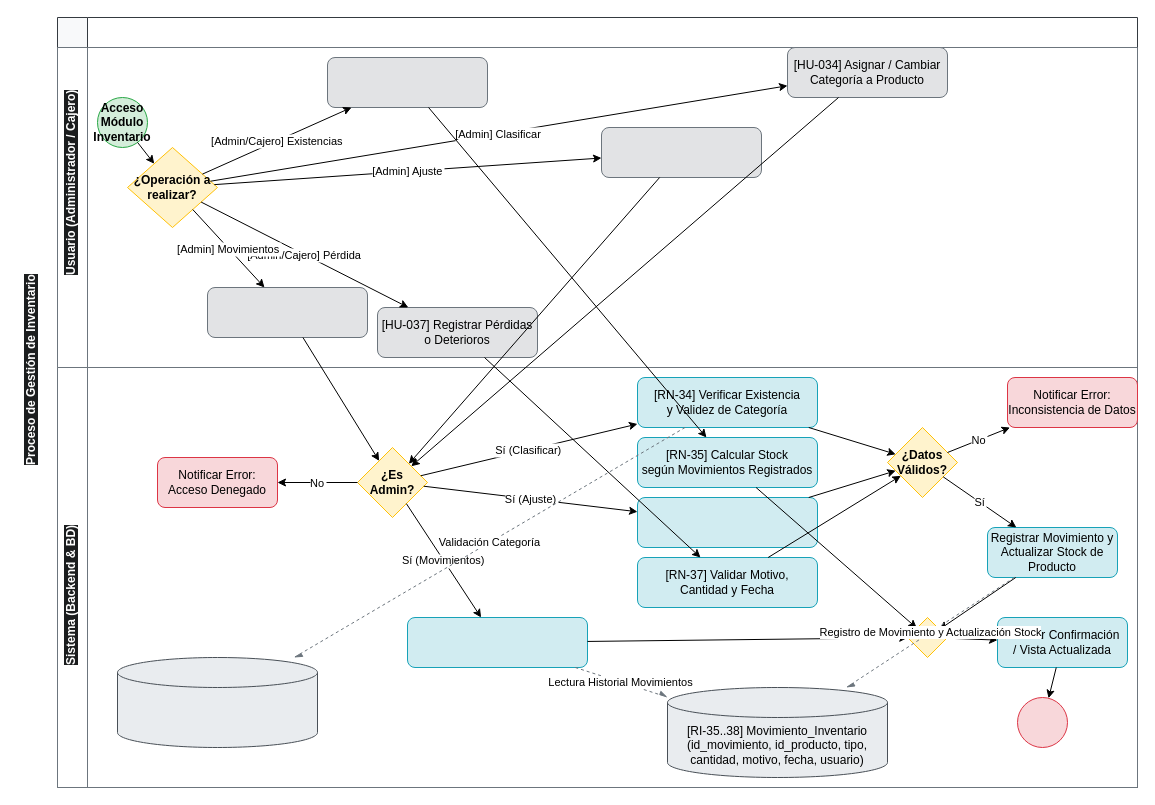
Image size: 1155x805. Some labels were removed from this diagram. The shapes that lost their labels are listed below. From the top down, each one's centre as x and y in pixels, then its label:
At [407,82]: "[HU-035] Consultar Existencias Disponibles".
At [681,152]: "[HU-036] Registrar Ajuste (Conteo Físico)".
At [287,312]: "[HU-038] Consultar Historial de Movimientos".
At [727,522]: "[RN-36] Validar Motivo y Usuario Responsable".
At [497,642]: "[RN-38] Recuperar Histórico (Bloquear Eliminación)".
At [217,702]: "[RI-34] Productos y Categorías (id_producto, id_categoria, nombre, stock)".
At [1042,722]: "Proceso Finalizado".
